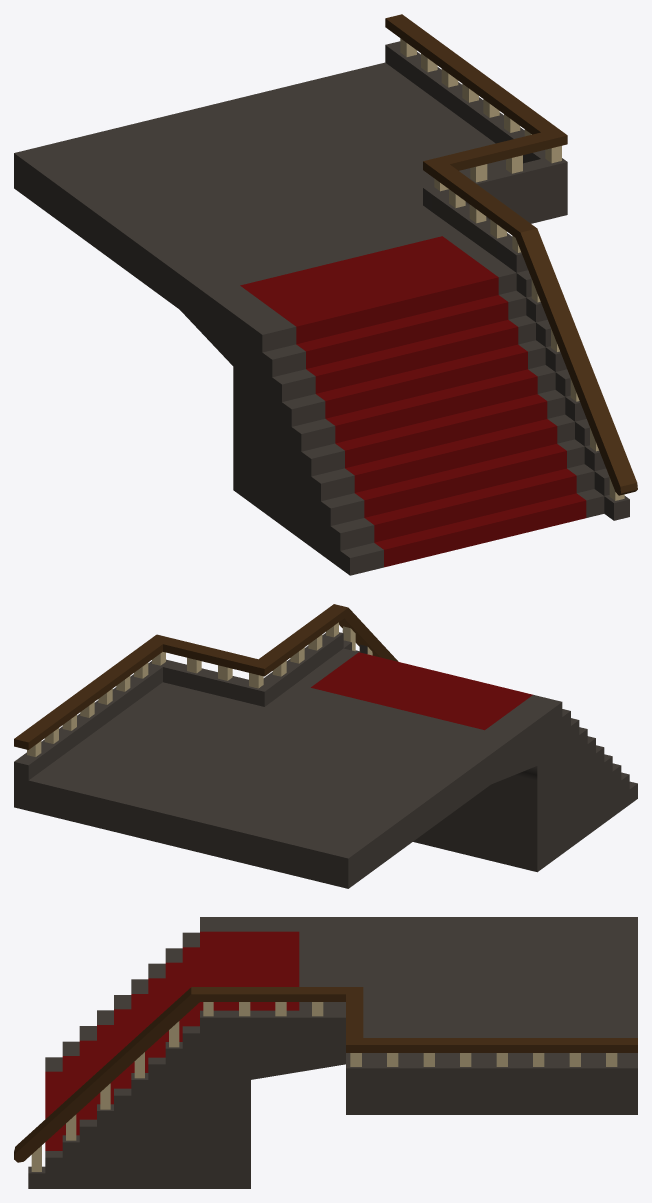
The model's file is Medi Stairs and Platform.FBX.
The picture shows the model from 3 angles, top to bottom: view 1: azimuth 30°, elevation 25°; view 2: azimuth 150°, elevation 25°; view 3: azimuth 270°, elevation 25°; orthographic projection. The views are drawn at different scales.
Parts seen in each view (by area): view 1: Medi Stairs and Platform; view 2: Medi Stairs and Platform; view 3: Medi Stairs and Platform.
Part boxes in pixels (box(x1,y1,x2,y2)): Medi Stairs and Platform: box(14, 14, 637, 575); Medi Stairs and Platform: box(14, 604, 637, 888); Medi Stairs and Platform: box(14, 917, 637, 1188).
Bounding box in the file's own units: 11.5 × 6.25 × 18.16.
